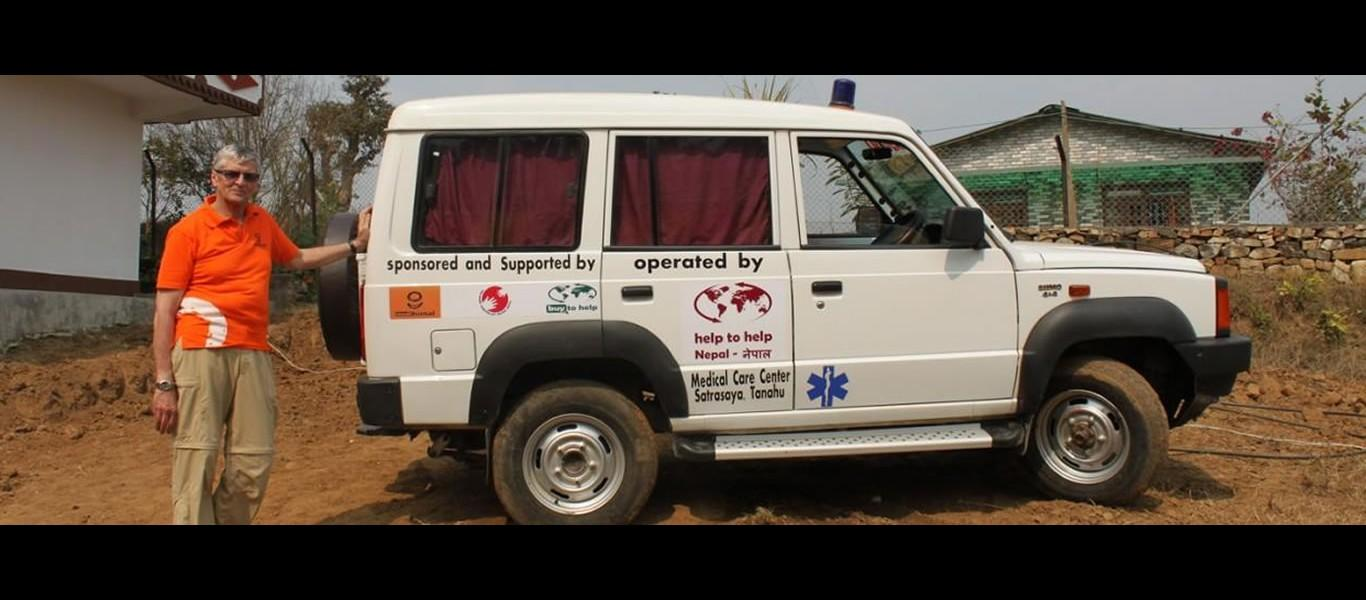ambulance: (310, 76, 1258, 520)
